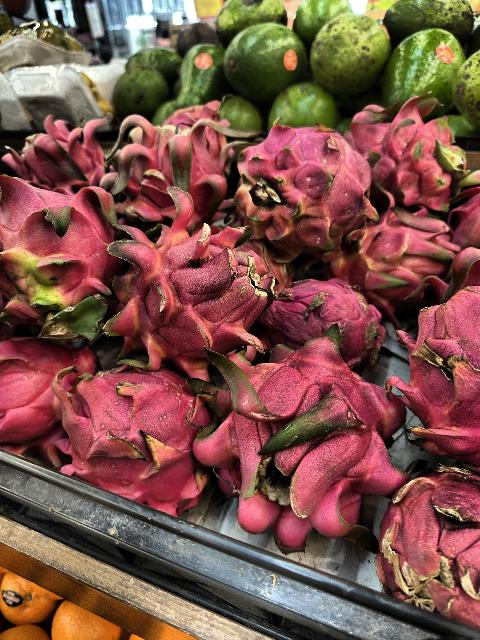buah-naga-belum-matang: (0, 168, 122, 338)
buah-naga-matang: (199, 337, 411, 541), (52, 347, 212, 509), (109, 197, 273, 355), (231, 123, 375, 253), (380, 446, 480, 626), (406, 260, 480, 458), (100, 102, 226, 215), (352, 100, 466, 218), (322, 202, 441, 302), (0, 328, 88, 446), (268, 277, 390, 361), (0, 118, 108, 190), (452, 167, 480, 286)
